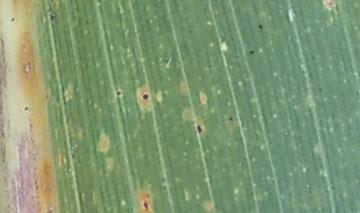tarspot: (196, 122, 203, 134), (8, 15, 17, 22), (115, 90, 123, 97), (142, 93, 149, 101), (248, 48, 255, 56), (49, 13, 55, 21), (23, 105, 30, 111), (143, 202, 149, 209), (258, 23, 264, 30), (317, 86, 323, 93), (229, 114, 233, 122)
